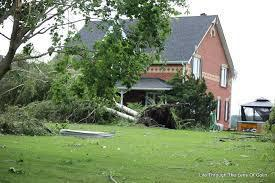affected: (71, 12, 236, 138)
